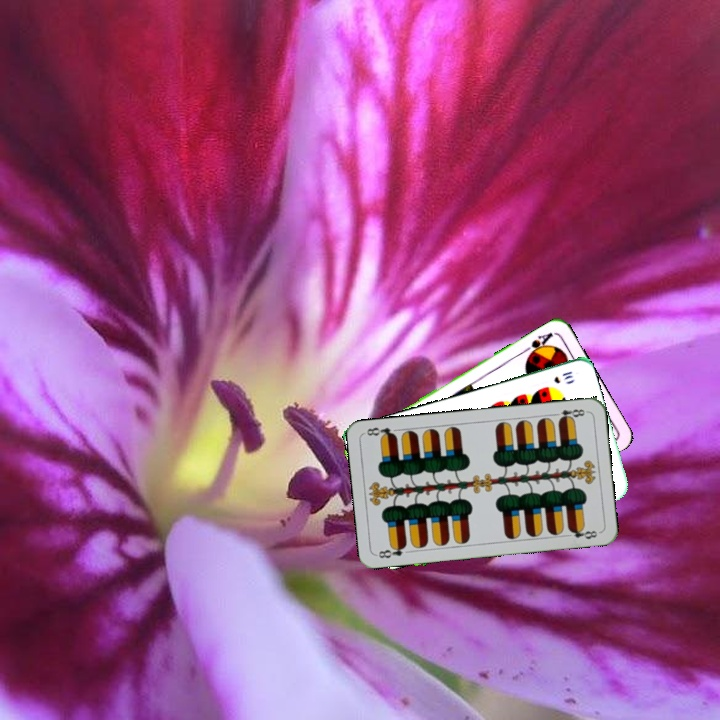E8: (549, 405, 590, 424), (374, 541, 409, 560)
S10: (550, 367, 575, 386)
SA: (519, 328, 556, 360)
